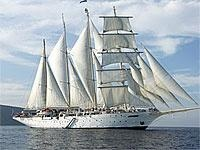fanchuan: (10, 2, 200, 127)
